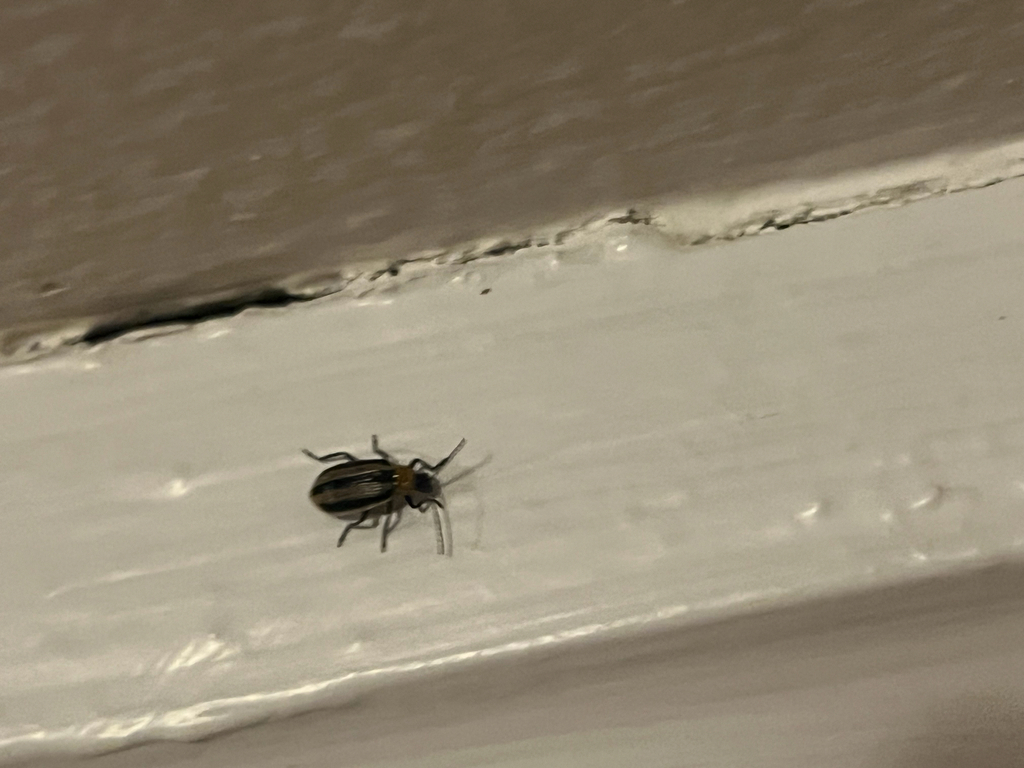potato_beetle: (248, 383, 532, 605)
